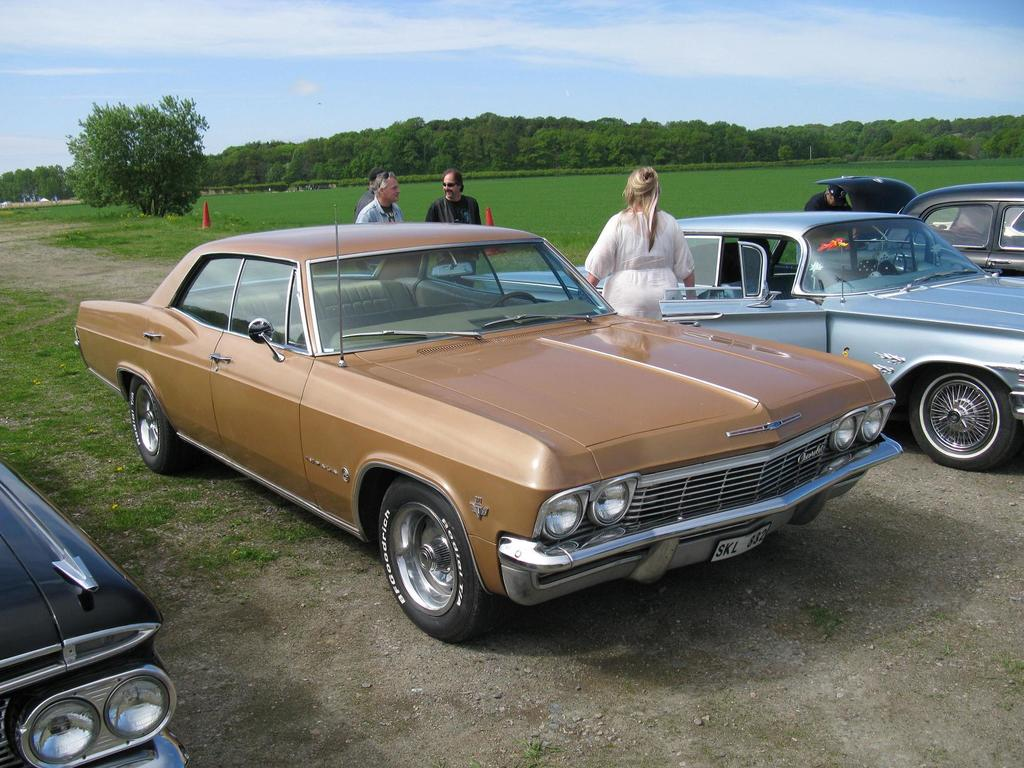Car: (96, 240, 887, 641), (474, 196, 1023, 471), (0, 444, 191, 767), (810, 170, 1021, 277)
